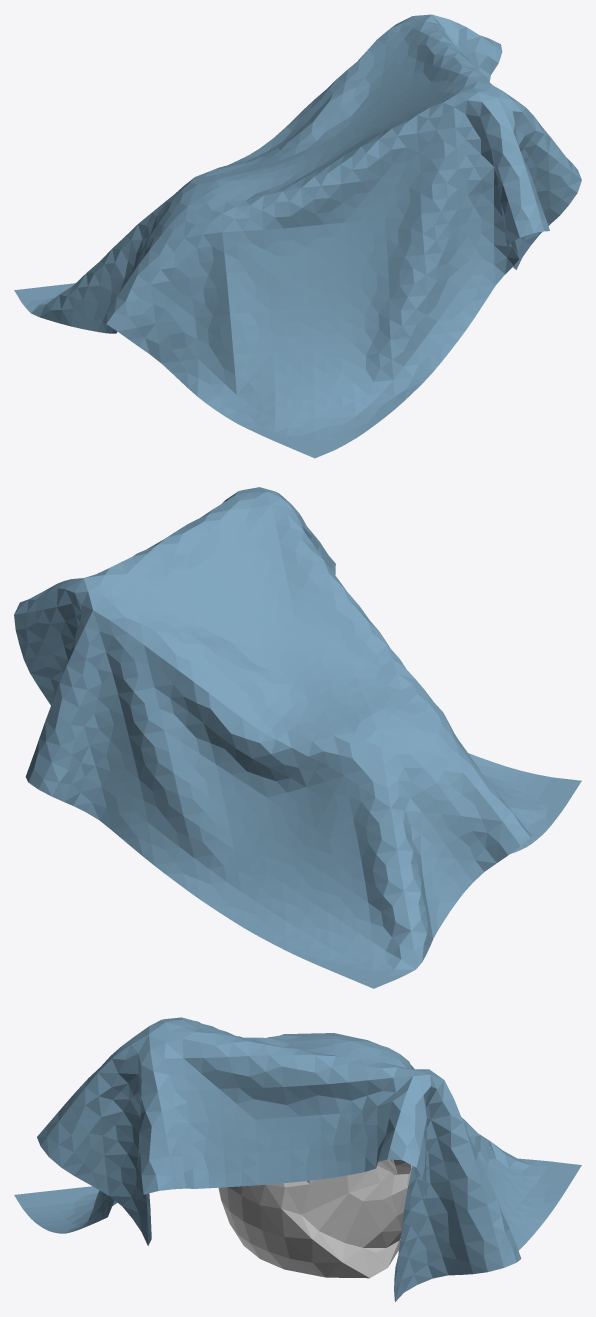
The model's file is level_1.glb.
3 renders of one model, top to bottom at view 1: azimuth 30°, elevation 25°; view 2: azimuth 150°, elevation 25°; view 3: azimuth 270°, elevation 25°, orthographic. The views are drawn at different scales.
Parts seen in each view (by area): view 1: world; view 2: world; view 3: world, object.obj.
Part boxes in pixels (x1,y1,x2,y2): world: (14, 14, 581, 458); world: (14, 487, 581, 988); world: (14, 1017, 581, 1301); object.obj: (218, 1159, 412, 1278).
Size of the model in its own units: 0.5094 by 0.2927 by 0.5013.
